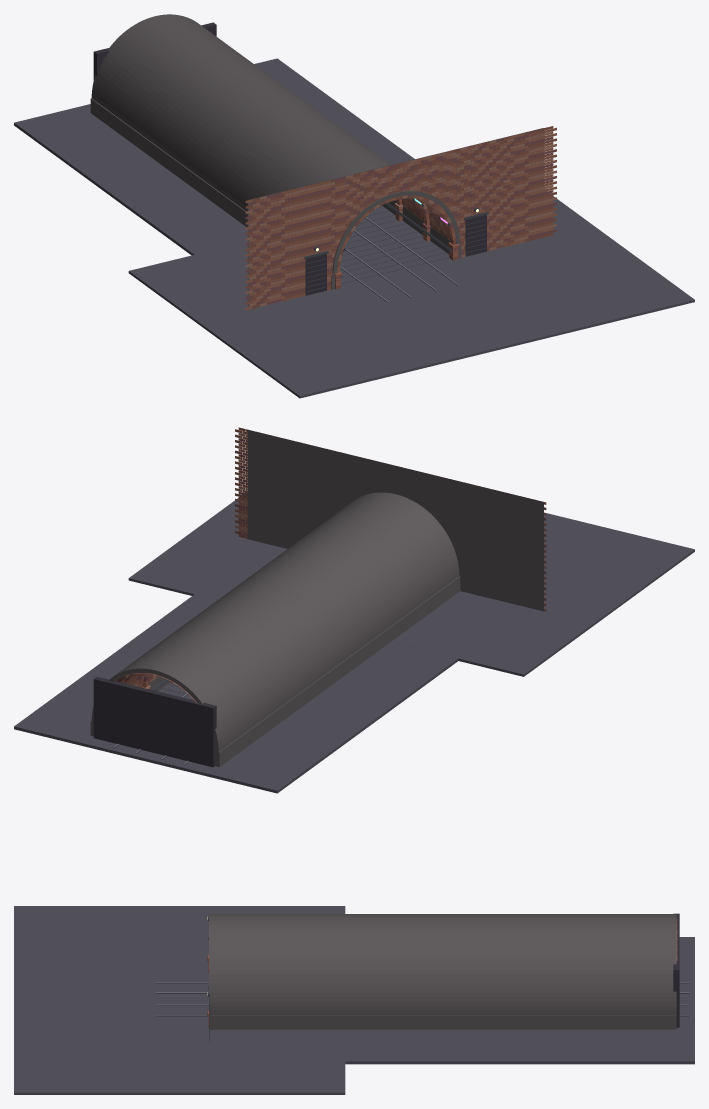
Rendered from VenueTunnel.fbx.
3 views of the same model, one above another, from view 1: azimuth 30°, elevation 25°; view 2: azimuth 150°, elevation 25°; view 3: azimuth 270°, elevation 25° (orthographic). The views are drawn at different scales.
Parts seen in each view (by area): view 1: VenueTunnel; view 2: VenueTunnel; view 3: VenueTunnel.
Boxes of the visible parts, x1,y1,x2,y2 form: VenueTunnel: [14, 14, 694, 398]; VenueTunnel: [14, 427, 694, 793]; VenueTunnel: [14, 906, 694, 1094].
Bounding box in the file's own units: 24 × 37 × 6.53.
